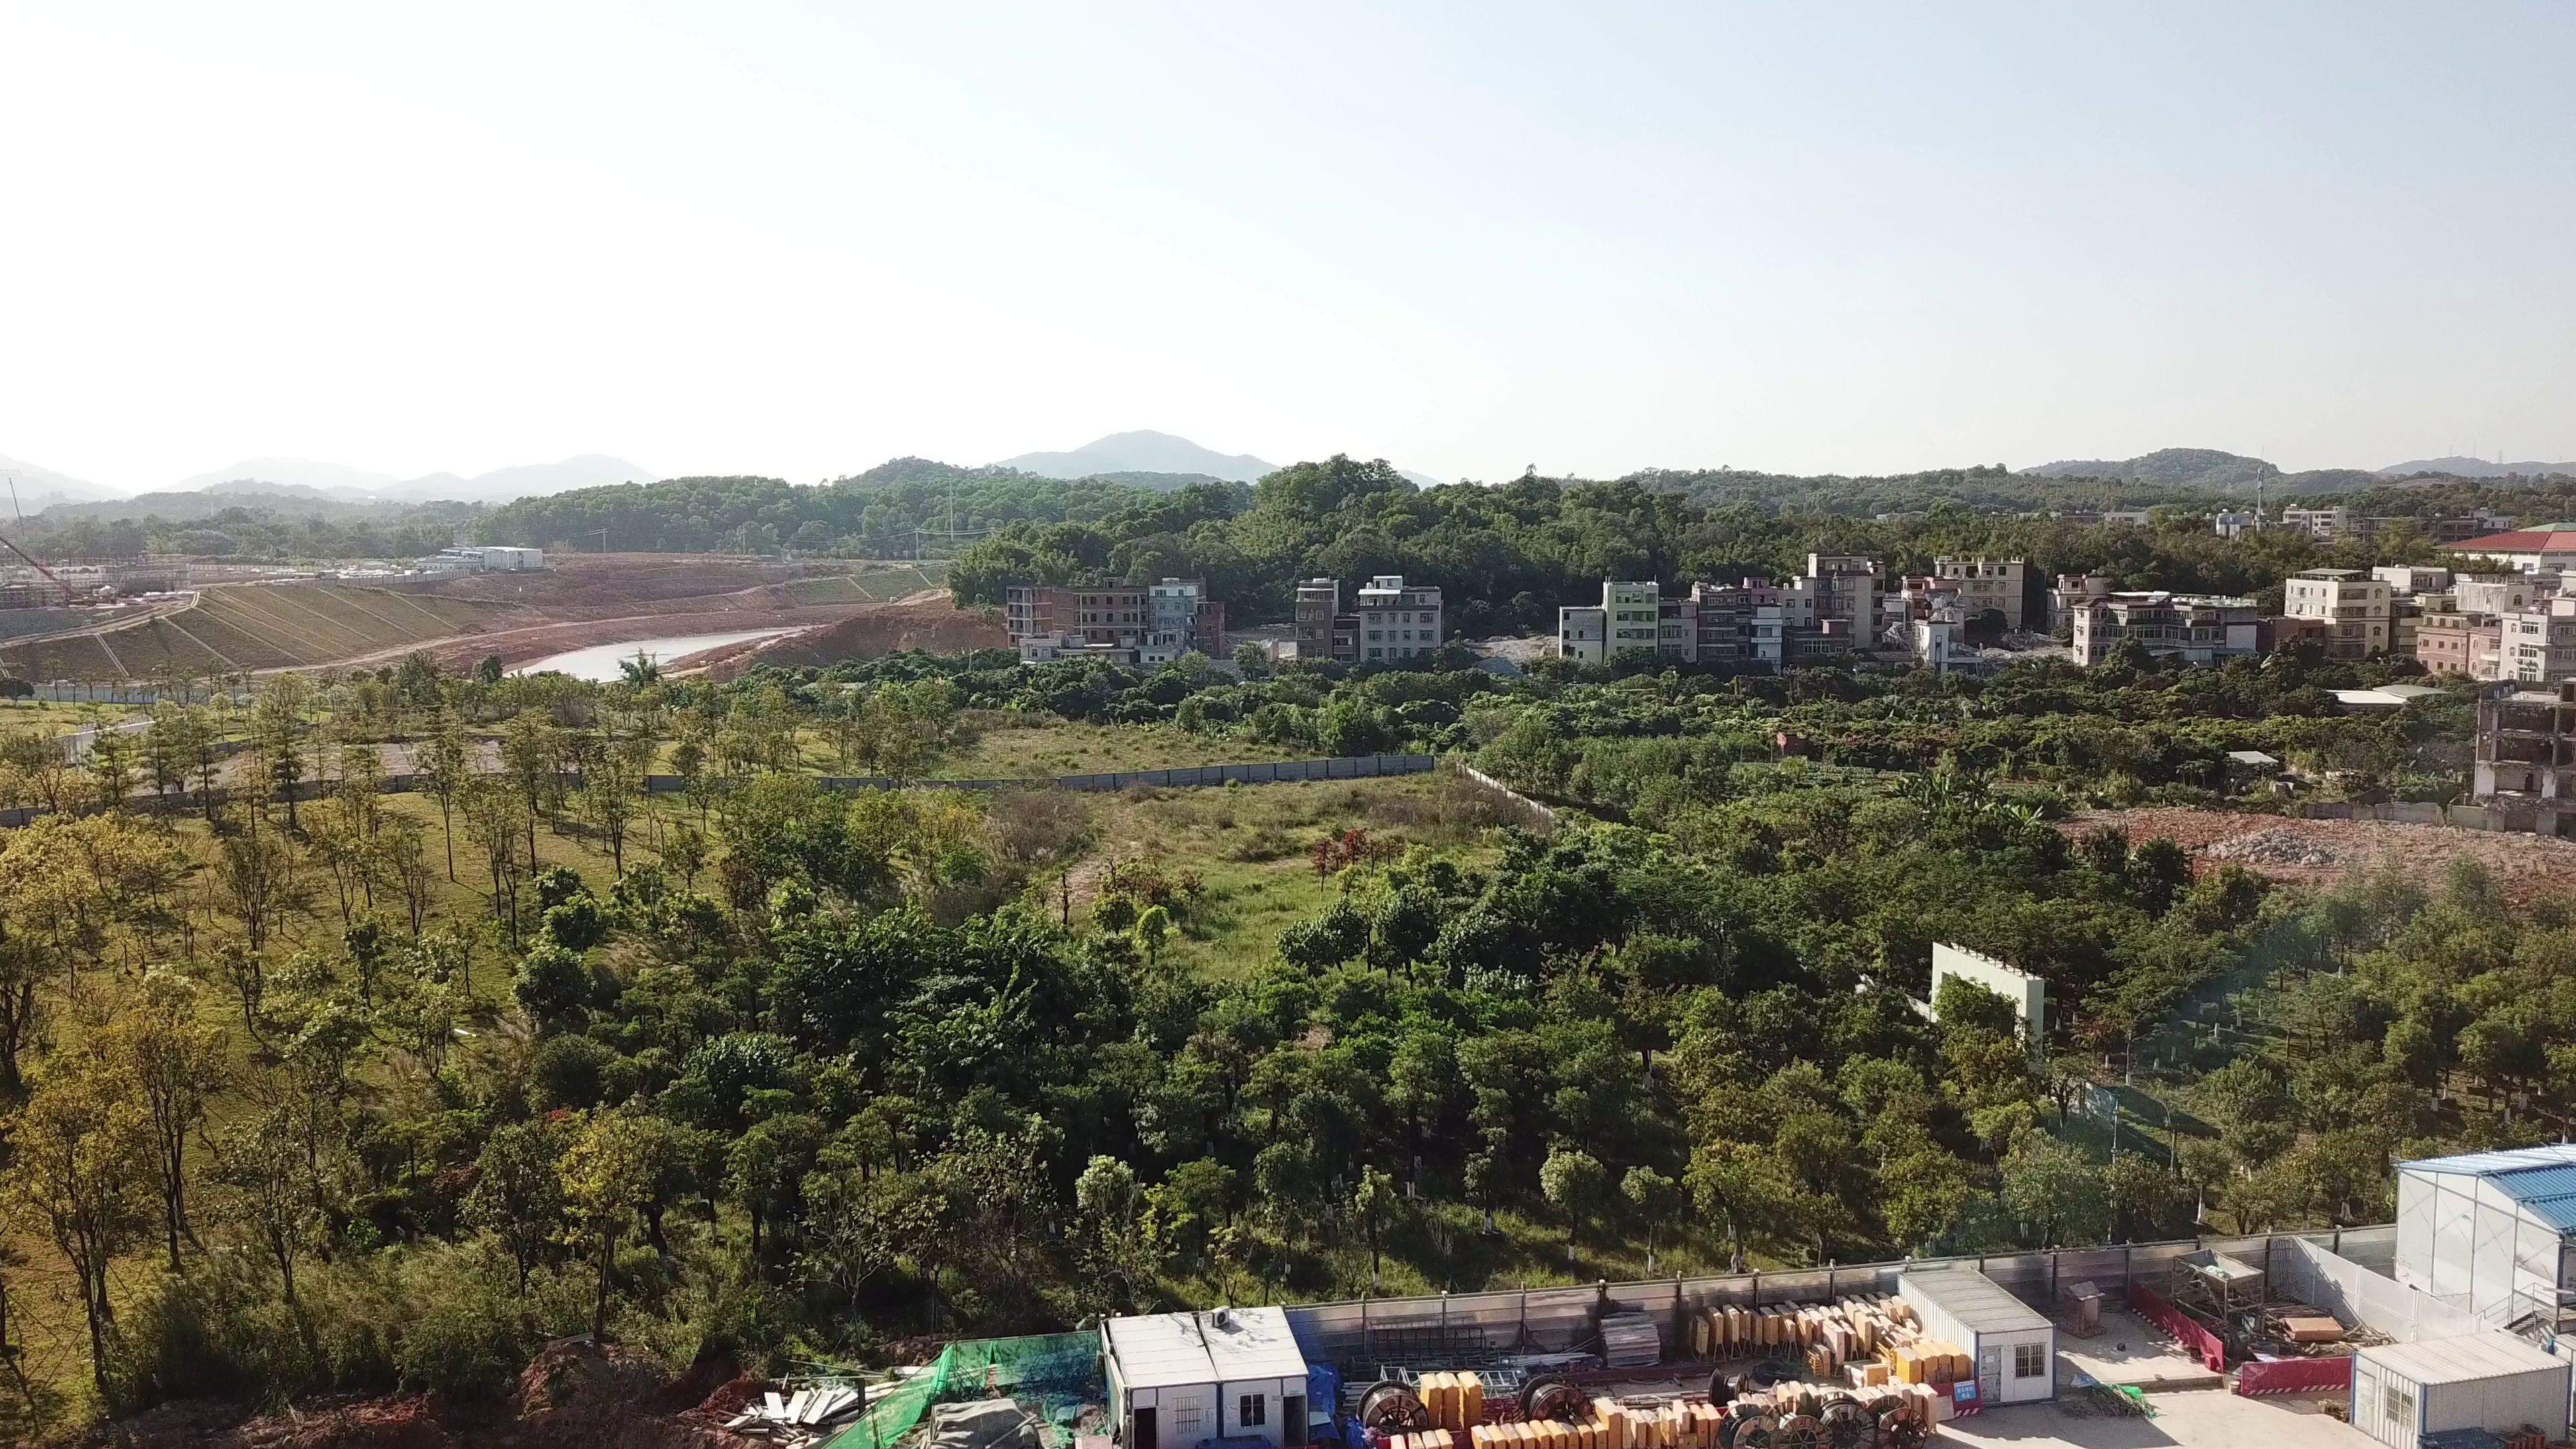fence: (1375, 1244, 2284, 1348)
